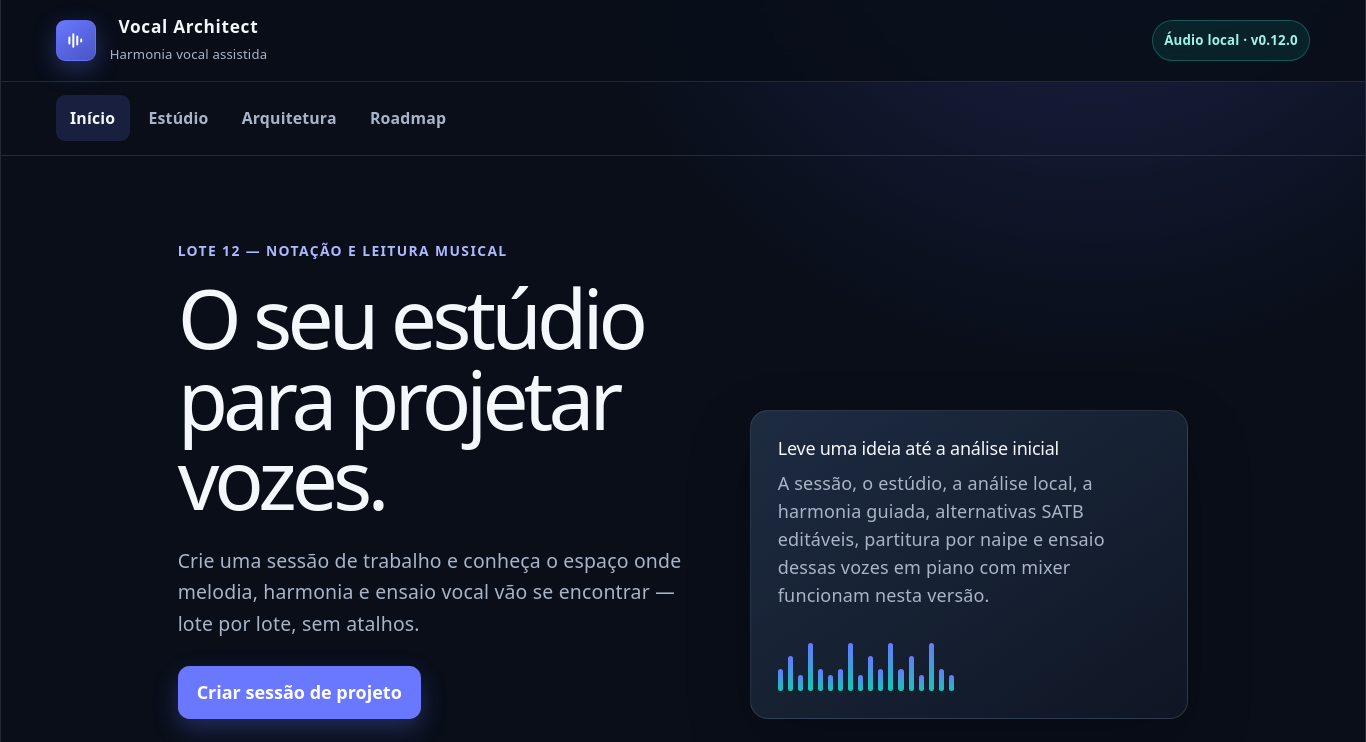
Test: Vocal Architect foundation › creates an in-memory session before opening the studio
What coordinates should you click on to do the following:
click the button "Criar sessão de projeto"
I would click on:
 (299, 692)
Its box is [178,666,421,719].
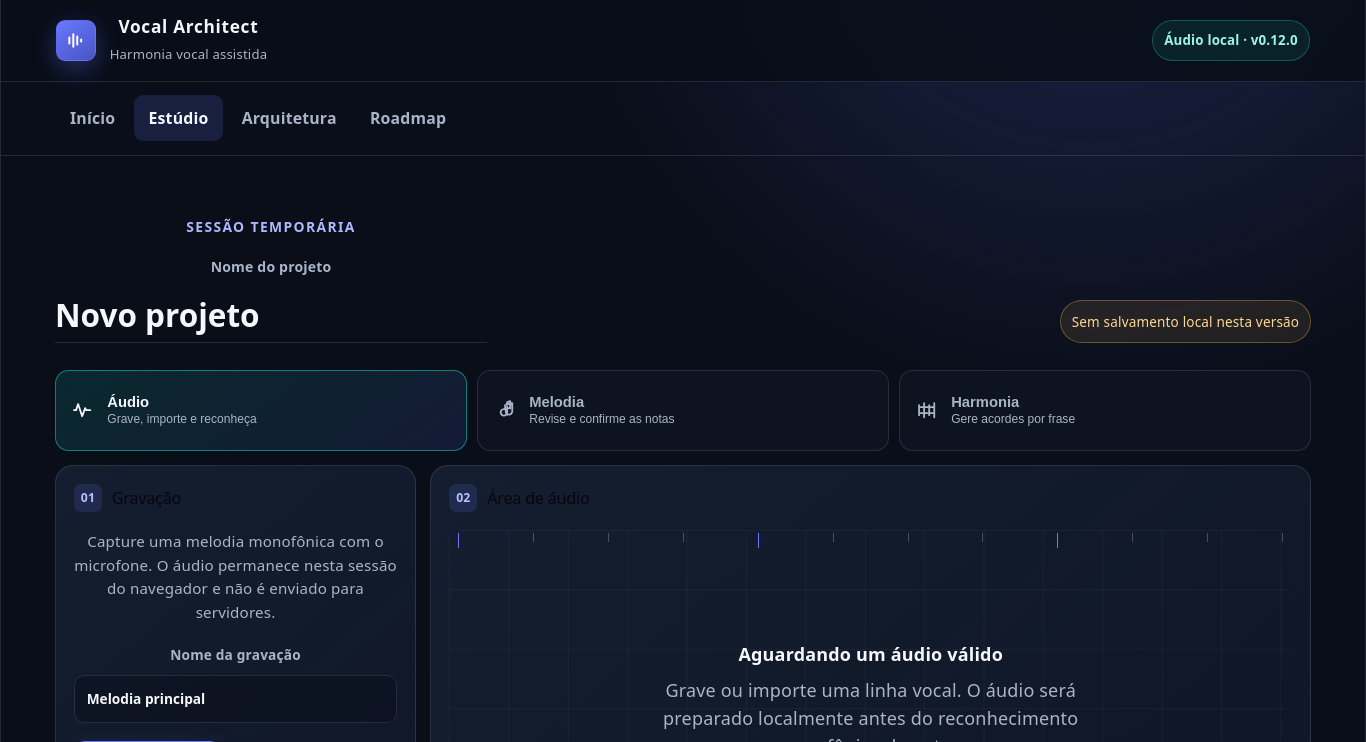
Now the field labelled "Nome do projeto" holds "Novo projeto", box [55,286,487,343]
Now the text "Sem salvamento local nesta versão" is shown, box [1060,300,1311,343]
What coordinates should you click on to do the following:
click the button "Melodia Revise e confirme as notas"
I would click on:
 (557, 402)
Its box is [477,370,889,451].
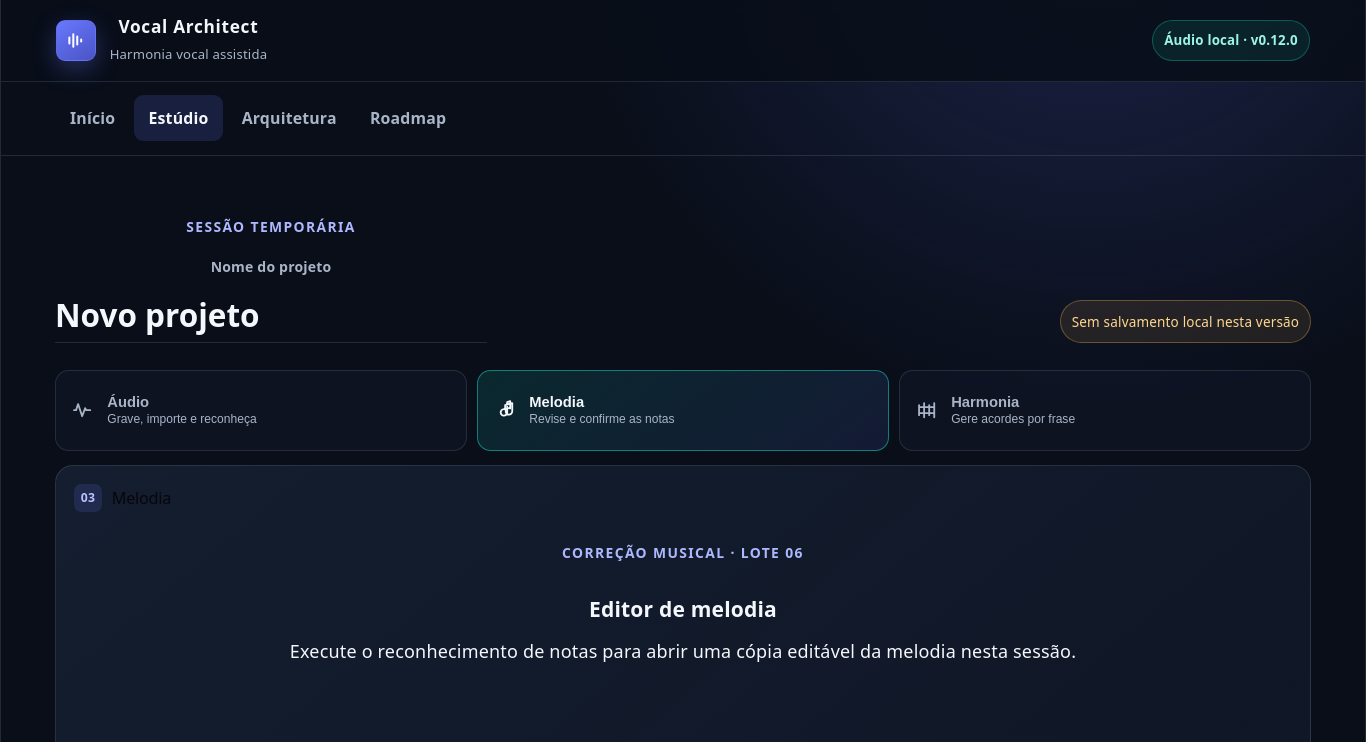
Now the heading "Editor de melodia" is shown, box [589,594,777,623]
What coordinates should you click on to do the following:
click the button "Harmonia Gere acordes por frase"
I would click on:
 (985, 402)
Its box is [899,370,1311,451].
(page scrolled)
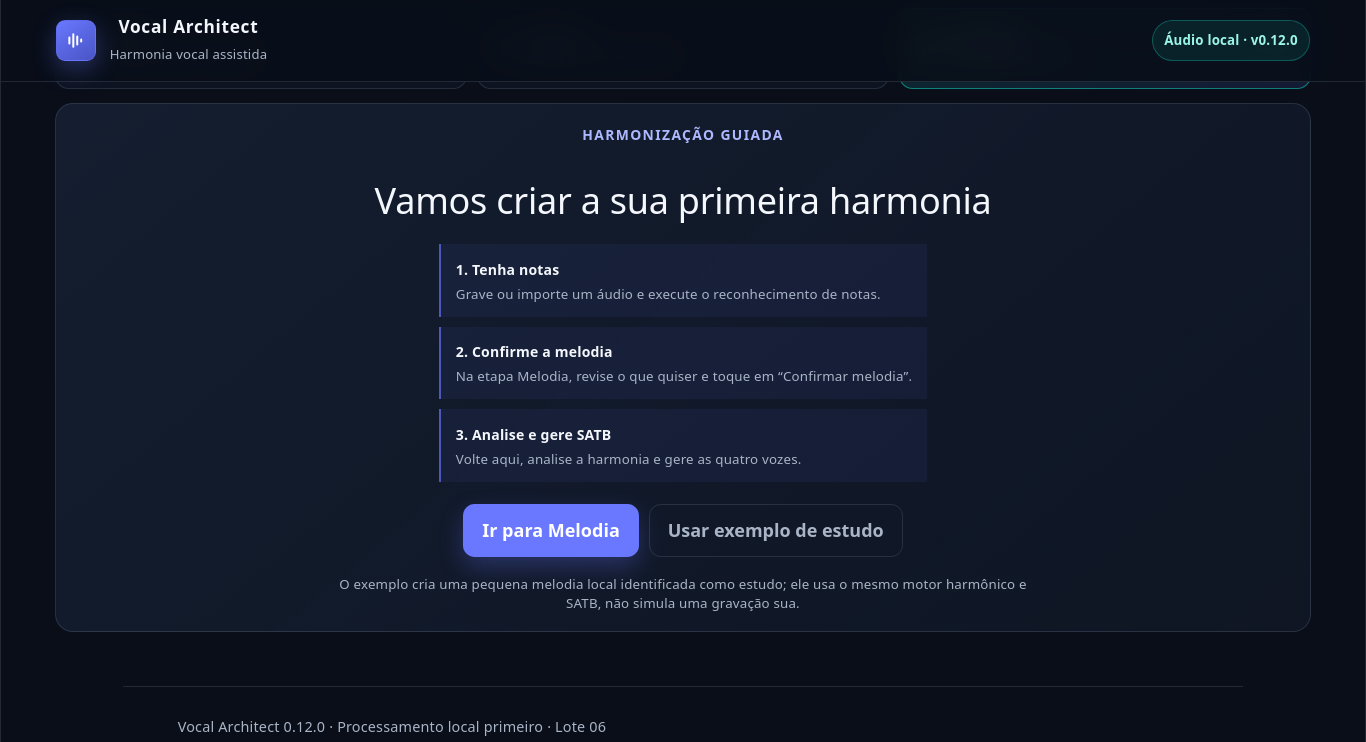
Now the heading "Vamos criar a sua primeira harmonia" is shown, box [374,176,991,225]
Now the button "Usar exemplo de estudo" is shown, box [649,504,903,557]
